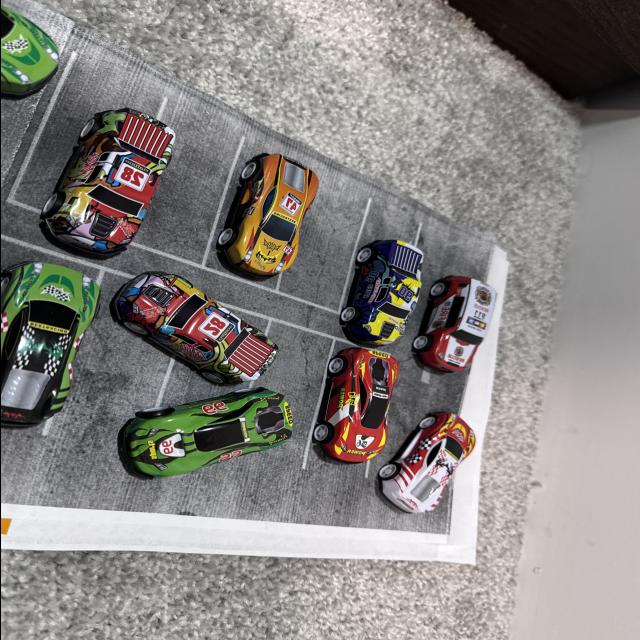Car: (97, 257, 275, 388), (26, 94, 161, 264), (0, 236, 109, 431), (357, 401, 501, 515), (312, 328, 408, 494), (101, 396, 309, 470), (0, 0, 102, 119), (220, 156, 314, 284), (336, 228, 425, 356), (416, 276, 500, 384)
